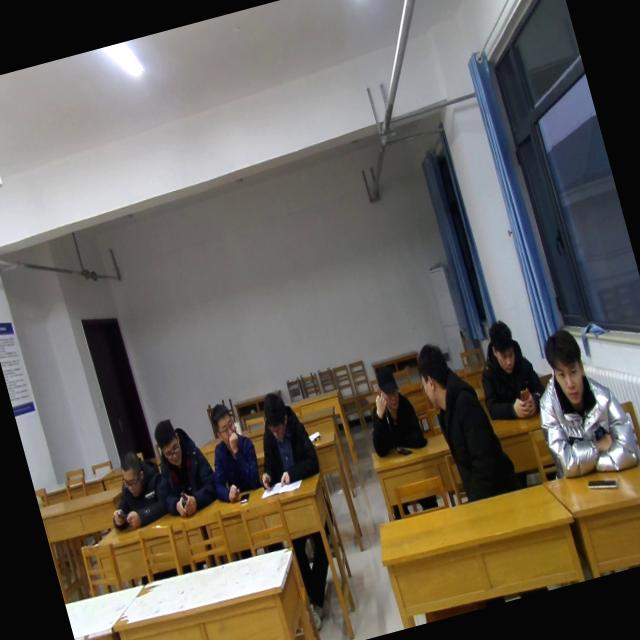bow: (96, 443, 174, 536)
down: (482, 316, 524, 378), (146, 413, 188, 472), (255, 388, 294, 444), (112, 448, 148, 500), (368, 361, 403, 412)
lookup: (536, 322, 594, 411)
sit: (518, 316, 640, 490), (410, 328, 520, 510), (352, 356, 443, 516), (466, 314, 552, 428), (241, 386, 326, 494), (142, 410, 222, 520), (193, 395, 268, 503)
